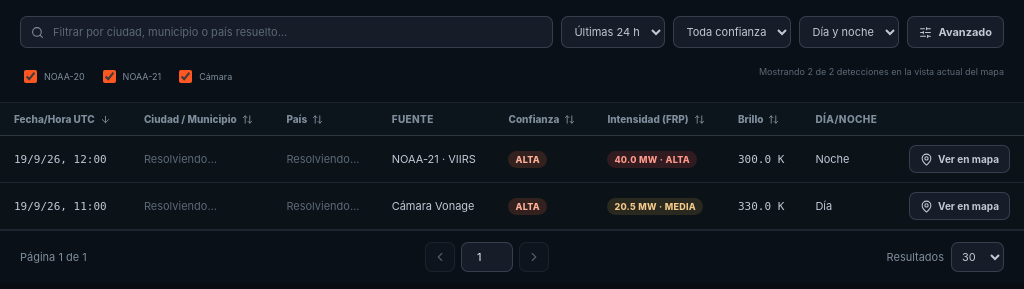
Test: FireTable › hides camera detections via their own toggle, independent of the NASA source checkboxes
Expected: the text "Mostrando 2 de 2 detecciones en la vista actual del mapa" is shown, [759,66,1004,78]
Click the checkbox labelled "Cámara" at x=186, y=76, box [179,70,192,83]
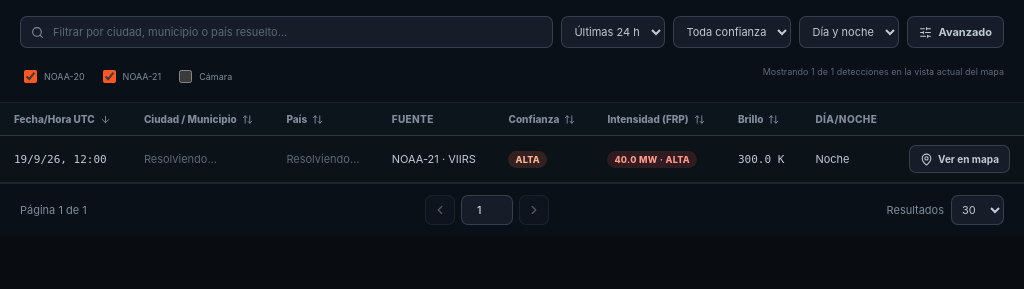
Expected: the text "Cámara Vonage" is gone
Expected: the text "Mostrando 1 de 1 detecciones en la vista actual del mapa" is shown, [763,66,1004,78]
